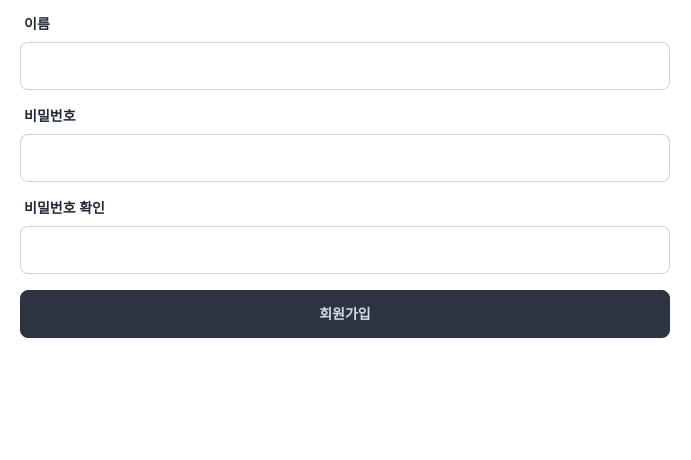
it: easy › "확인" 버튼을 누르면 키패드가 닫힌다
Click the password field labelled "비밀번호" at [345, 158], box [20, 134, 670, 182]
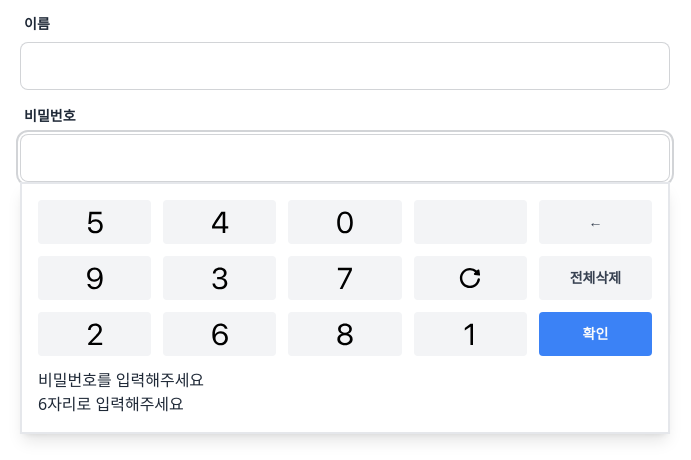
Click the button "확인" at [595, 334], box [539, 312, 652, 356]
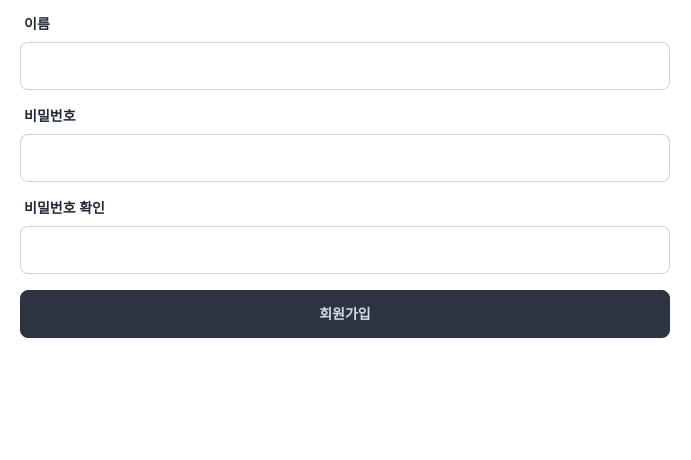
Expected: the text "비밀번호를 입력해주세요" is gone
Expected: the text "6자리로 입력해주세요" is gone
